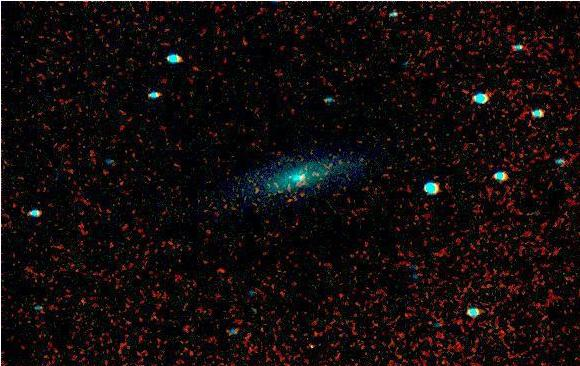star: (274, 162, 304, 192)
